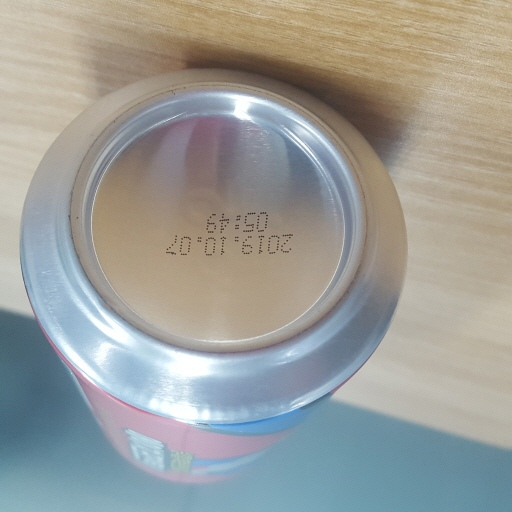Metal_0: (16, 66, 407, 485)
